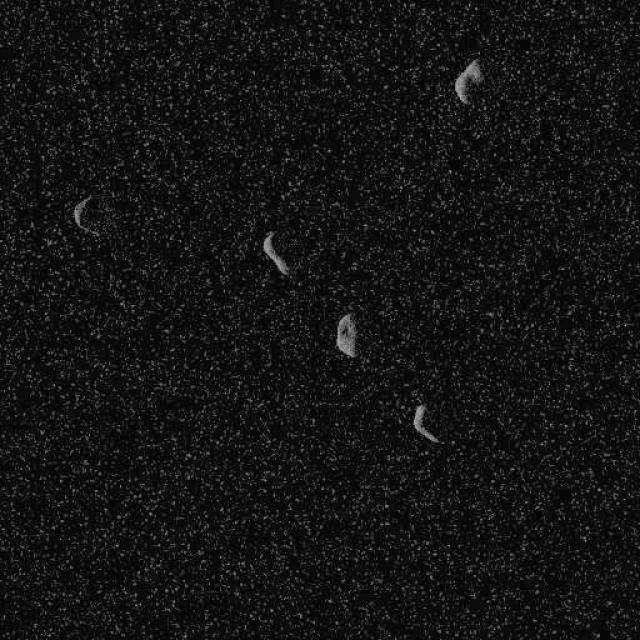D2: (453, 57, 485, 105), (261, 229, 290, 276), (412, 403, 442, 445), (334, 312, 358, 358), (73, 195, 99, 235)
